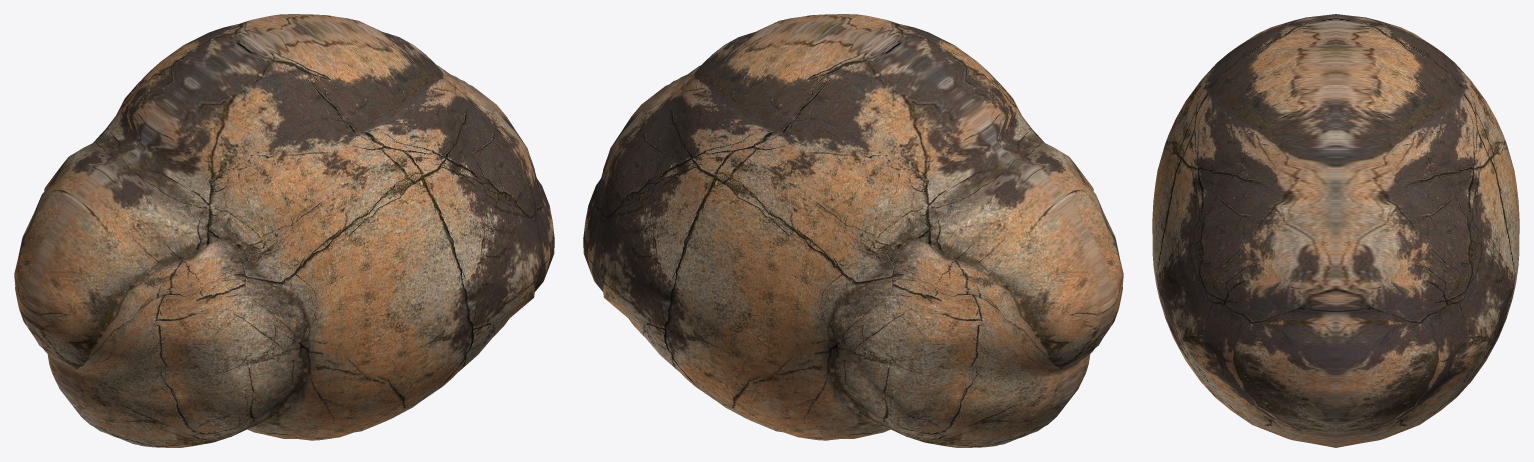
Rendered from rocher-5.glb.
The picture shows the model from 3 angles, left to right: view 1: azimuth 30°, elevation 25°; view 2: azimuth 150°, elevation 25°; view 3: azimuth 270°, elevation 25°; orthographic projection. The views are drawn at different scales.
Visible parts, largest first — view 1: rocher-5; view 2: rocher-5; view 3: rocher-5.
Part boxes in pixels (<box>): rocher-5: <box>14,14,554,447</box>; rocher-5: <box>583,14,1123,447</box>; rocher-5: <box>1152,14,1519,447</box>.
Bounding box in the file's own units: 2.02 × 1.5 × 1.31.
Materials: 1 (1 with a texture image).
